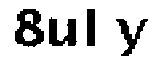8: (9, 3, 45, 51)
I: (79, 2, 104, 50)
u: (46, 16, 82, 49)
y: (111, 12, 153, 59)
